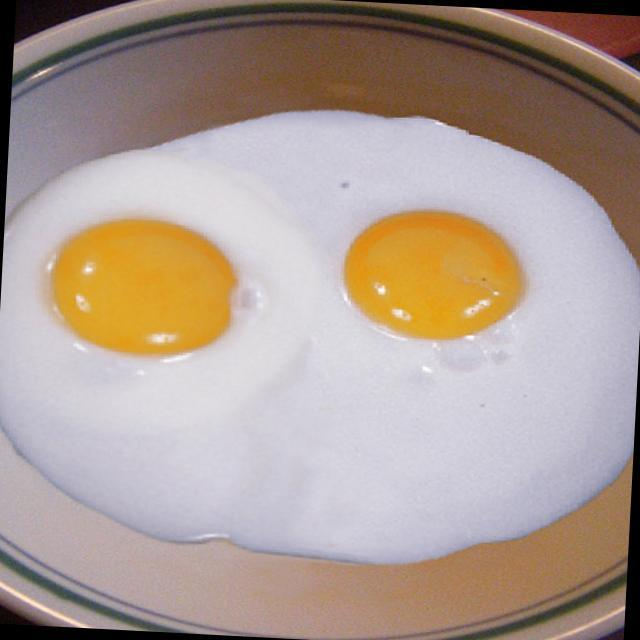Egg: (305, 96, 640, 570), (0, 83, 330, 559)
